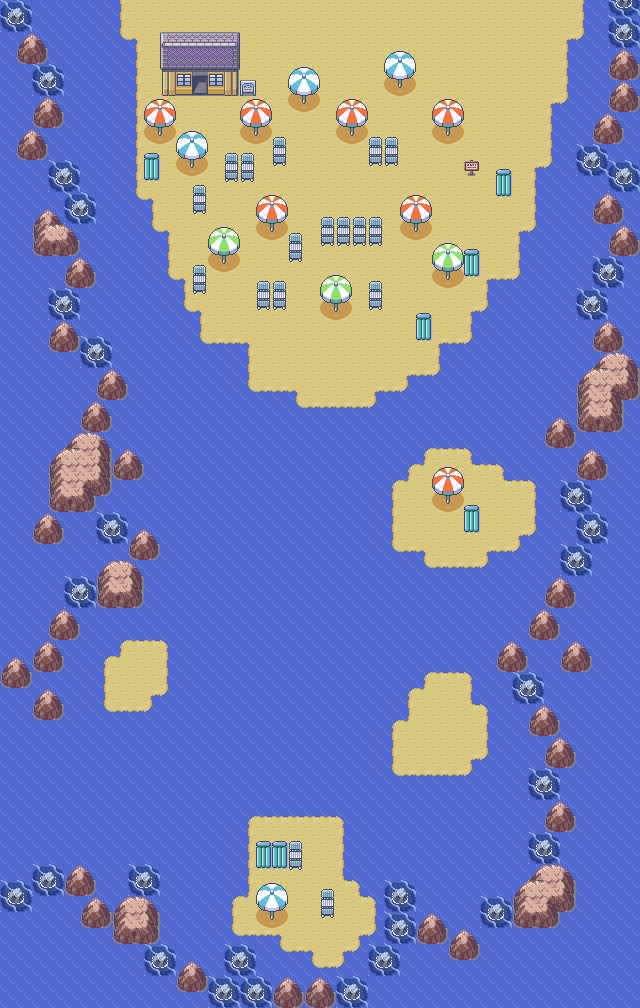normal_house: (157, 27, 244, 101)
